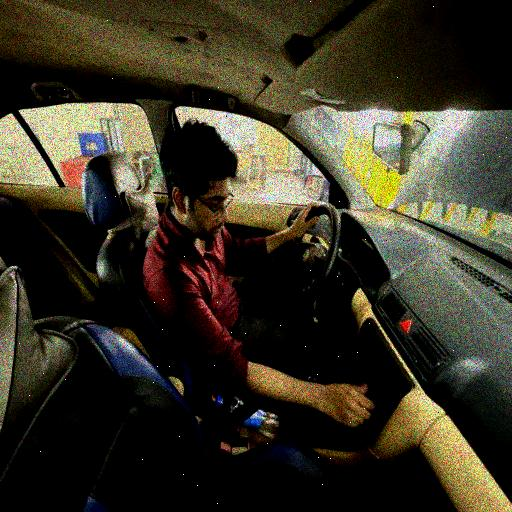operatingradio: (138, 121, 403, 428)
